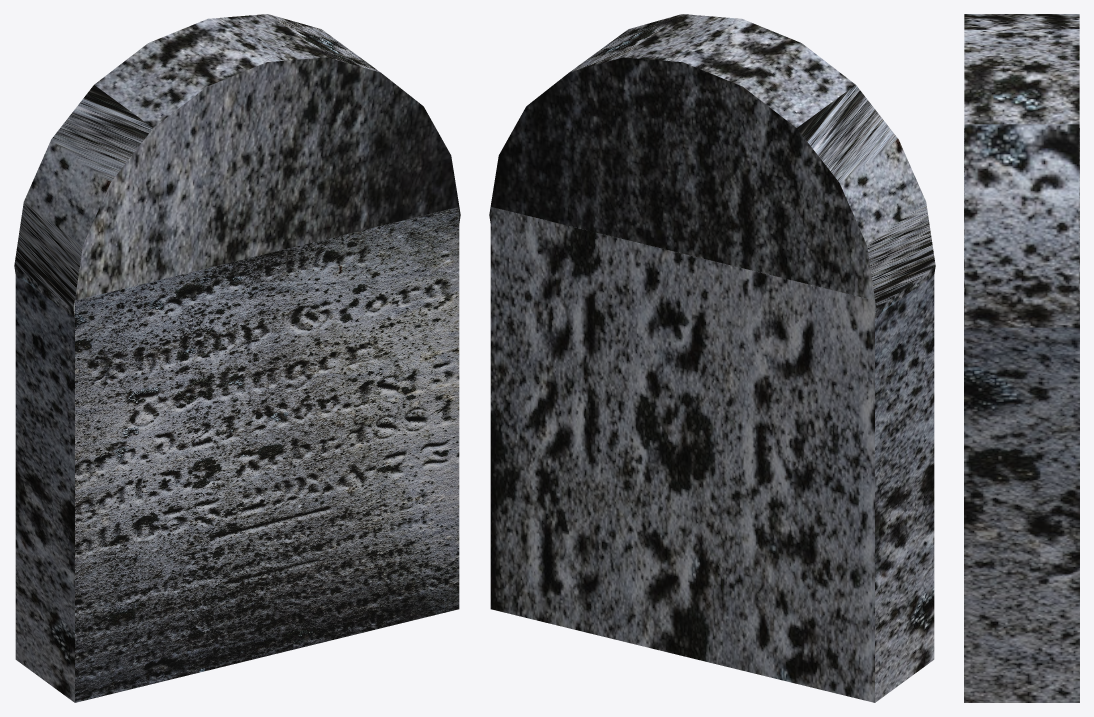
Rendered from Grave with words.fbx.
3 views of the same model, side by side, from view 1: azimuth 30°, elevation 25°; view 2: azimuth 150°, elevation 25°; view 3: azimuth 270°, elevation 25° (orthographic). The views are drawn at different scales.
Visible parts, largest first — view 1: pCylinder2; view 2: pCylinder2; view 3: pCylinder2.
Boxes of the visible parts, x1,y1,x2,y2 form: pCylinder2: (14, 14, 460, 702); pCylinder2: (489, 14, 935, 702); pCylinder2: (964, 14, 1079, 702).
Bounding box in the file's own units: 10.5 × 15.39 × 2.79.
Materials: 1 (1 with a texture image).
